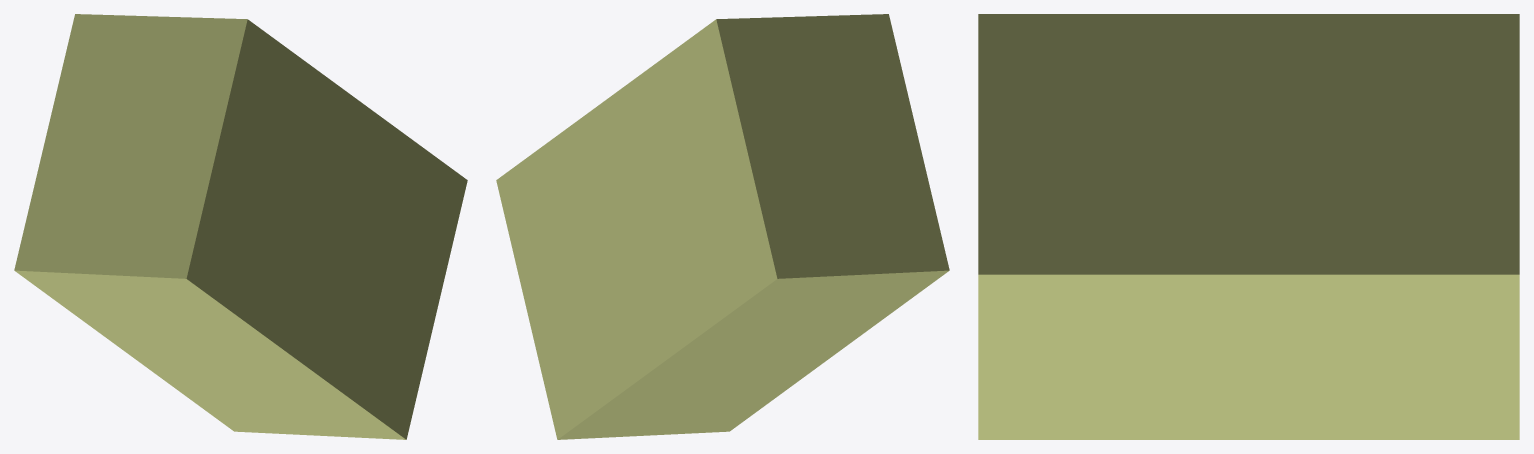
3 renders of one model, left to right at view 1: azimuth 30°, elevation 25°; view 2: azimuth 150°, elevation 25°; view 3: azimuth 270°, elevation 25°, orthographic. The views are drawn at different scales.
Visible parts, largest first — view 1: 0_1_2_0_1_3_0_3_2_2_1; view 2: 0_1_2_0_1_3_0_3_2_2_1; view 3: 0_1_2_0_1_3_0_3_2_2_1.
Boxes of the visible parts, <box> form: 0_1_2_0_1_3_0_3_2_2_1: <box>14,14,467,439</box>; 0_1_2_0_1_3_0_3_2_2_1: <box>496,14,949,439</box>; 0_1_2_0_1_3_0_3_2_2_1: <box>978,14,1519,439</box>.
Bounding box in the file's own units: 5.51 × 6.59 × 9.
